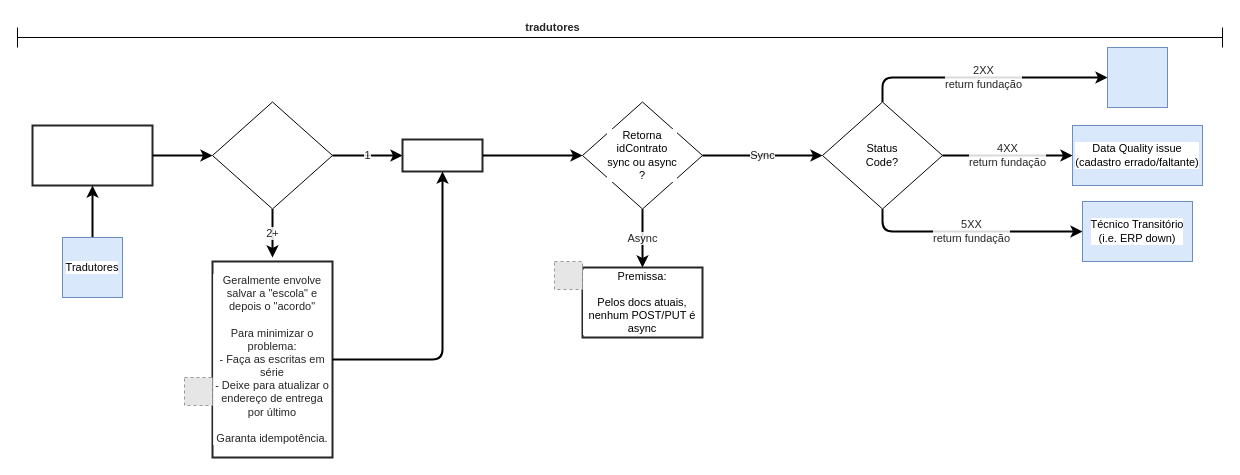
Image size: 1240x475. Some labels were removed from this diagram. Grey dashed boxes stand in for pictures. The centre of each missing label's shape, as x and y in pixels:
"De/Para ERP 1.0 alvo" belongs at [92,155].
"Quantos requests ao ERP 1.0 ?" belongs at [272,155].
"Sucesso" belongs at [1137,77].
"Sync Acordo" belongs at [442,155].
